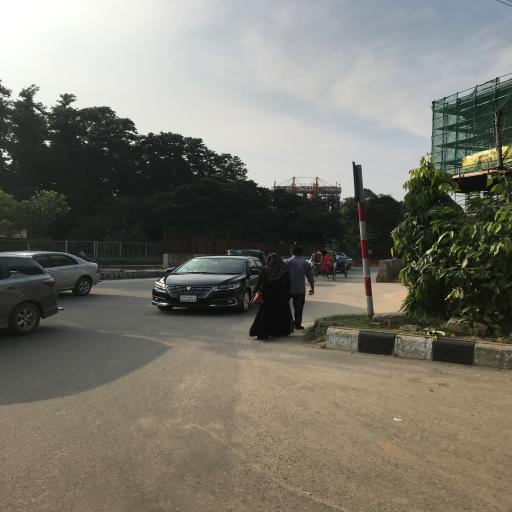car: (153, 259, 262, 316)
rickshaw: (311, 249, 339, 284), (83, 251, 113, 263), (339, 253, 350, 280)
suv: (1, 252, 60, 337)
